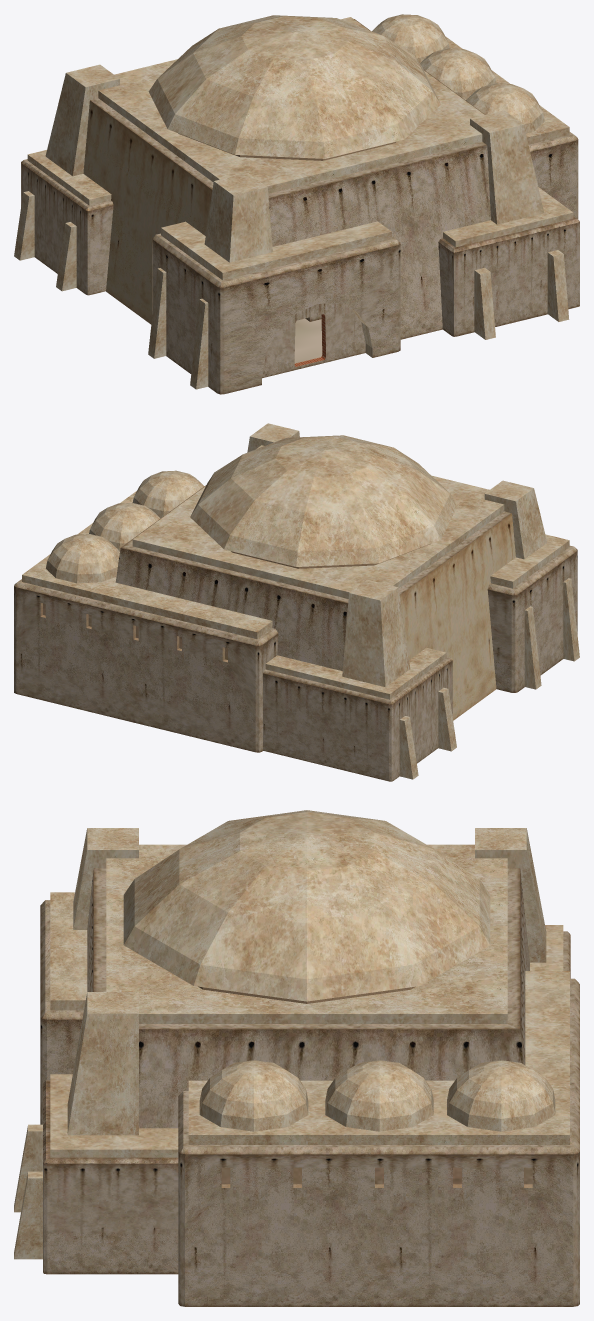
Rendered from thm_tato_imprv_building_s05_r0_mesh_l0.fbx.
The picture shows the model from 3 angles, top to bottom: view 1: azimuth 30°, elevation 25°; view 2: azimuth 150°, elevation 25°; view 3: azimuth 270°, elevation 25°; orthographic projection. The views are drawn at different scales.
Parts seen in each view (by area): view 1: mesh_node; view 2: mesh_node; view 3: mesh_node.
Part boxes in pixels (x1=…): mesh_node: x1=14, y1=14, x2=579, y2=394; mesh_node: x1=14, y1=423, x2=579, y2=781; mesh_node: x1=14, y1=810, x2=579, y2=1306.
Size of the model in its own units: 29.01 by 16.02 by 25.5.
